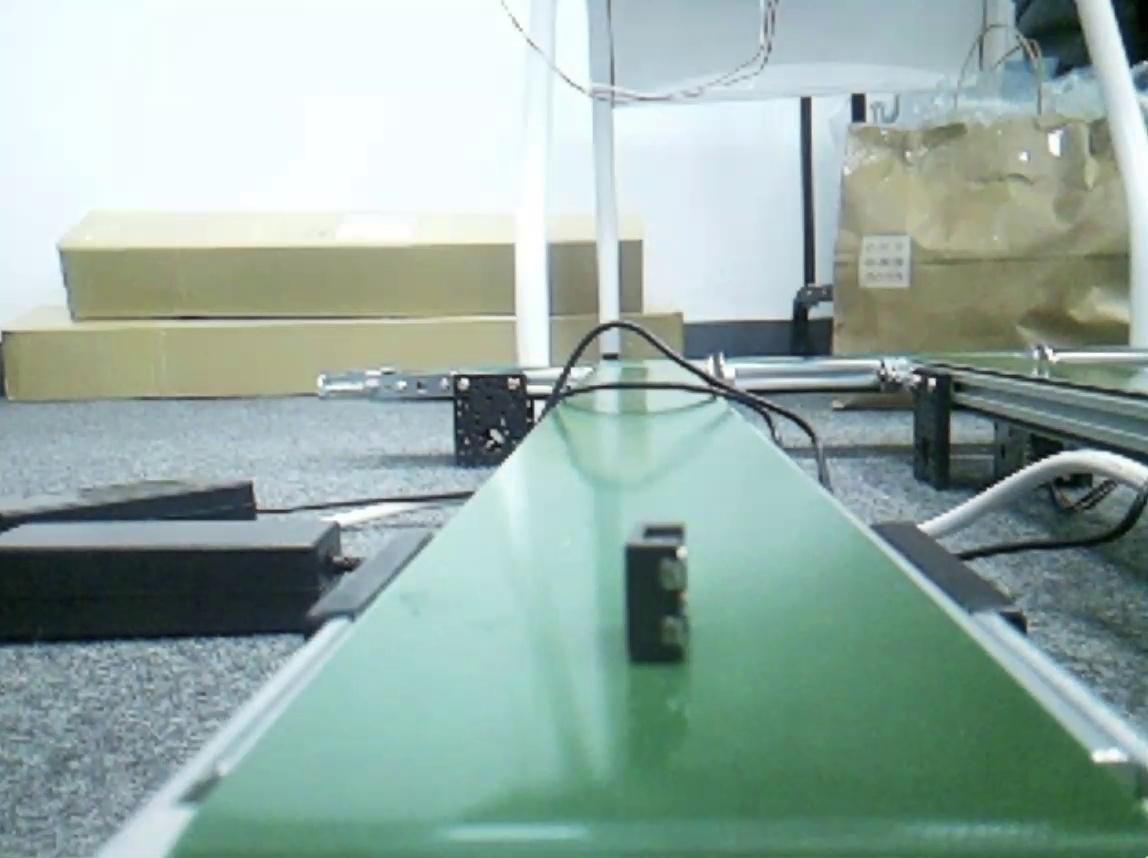inductor: (627, 523, 688, 668)
